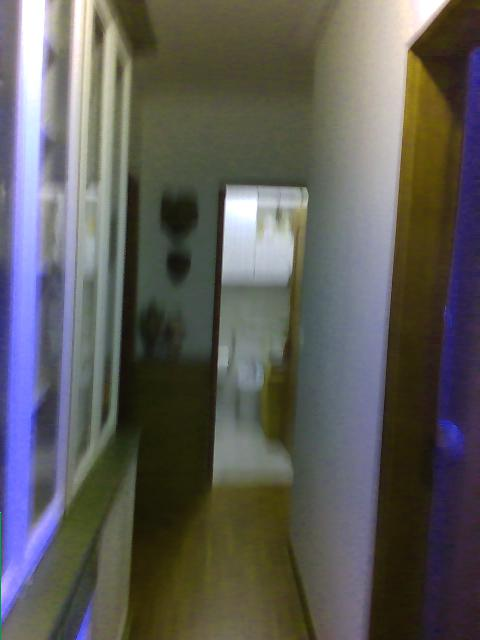open_door: (205, 178, 317, 488)
